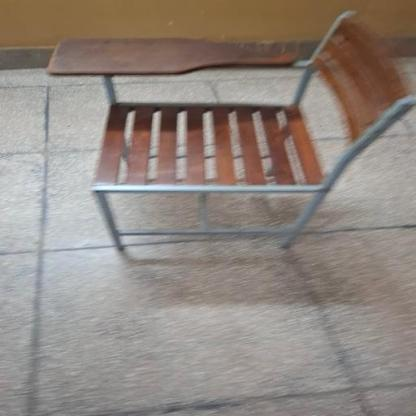chair: (43, 9, 416, 256)
